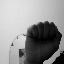a: (24, 20, 63, 61)
